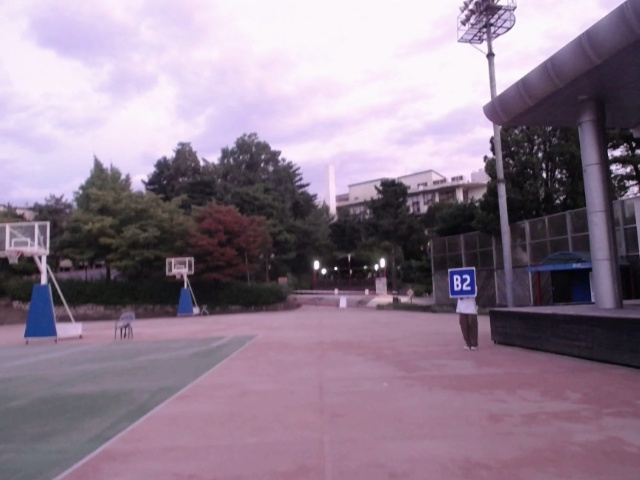delivery_b2: (449, 268, 477, 298)
